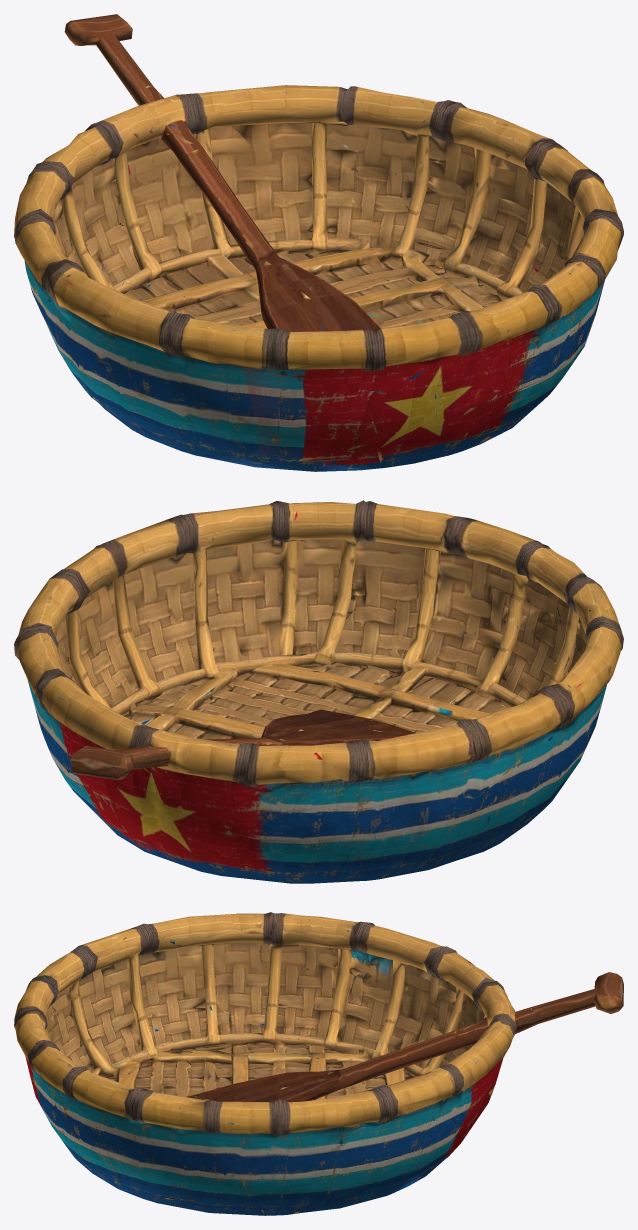
File: thuyen-thung.glb
3 views of the same model, one above another, from view 1: azimuth 30°, elevation 25°; view 2: azimuth 150°, elevation 25°; view 3: azimuth 270°, elevation 25° (orthographic). The views are drawn at different scales.
Size of the model in its own units: 0.7891 by 0.2858 by 0.9995.
Materials: 1 (1 with a texture image).
